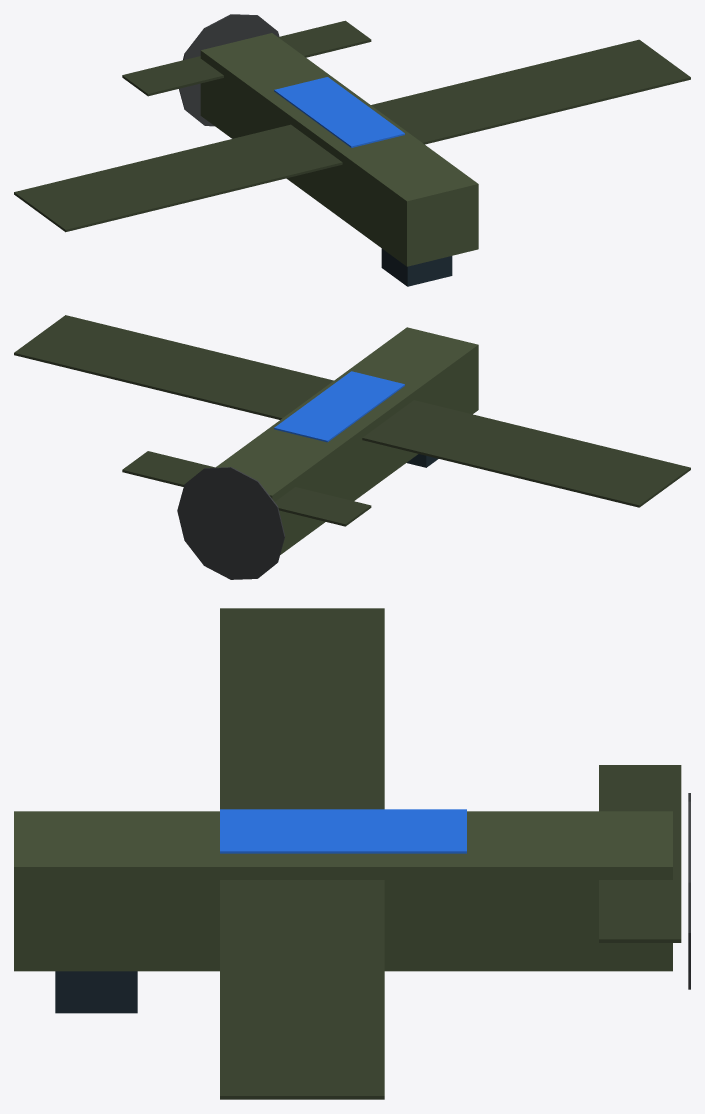
The model's file is kp_strike_jet.glb.
3 renders of one model, top to bottom at view 1: azimuth 30°, elevation 25°; view 2: azimuth 150°, elevation 25°; view 3: azimuth 270°, elevation 25°, orthographic. The views are drawn at different scales.
Visible parts, largest first — view 1: wing, body, team_plate, tail, prop, camera_pod; view 2: wing, body, prop, team_plate, tail; view 3: body, wing, team_plate, tail, camera_pod.
Part boxes in pixels (<box>): wing: <box>14,39,690,232</box>; body: <box>200,33,478,266</box>; team_plate: <box>274,77,404,147</box>; tail: <box>122,20,371,96</box>; prop: <box>179,14,279,126</box>; camera_pod: <box>381,248,452,286</box>; wing: <box>14,315,690,507</box>; body: <box>215,327,478,554</box>; prop: <box>177,467,285,579</box>; team_plate: <box>274,371,404,442</box>; tail: <box>122,451,371,526</box>; body: <box>14,811,672,971</box>; wing: <box>220,608,384,1099</box>; team_plate: <box>220,809,466,853</box>; tail: <box>599,765,681,942</box>; camera_pod: <box>55,971,137,1013</box>.
Bounding box in the file's own units: 8.4 × 1.56 × 4.93.
